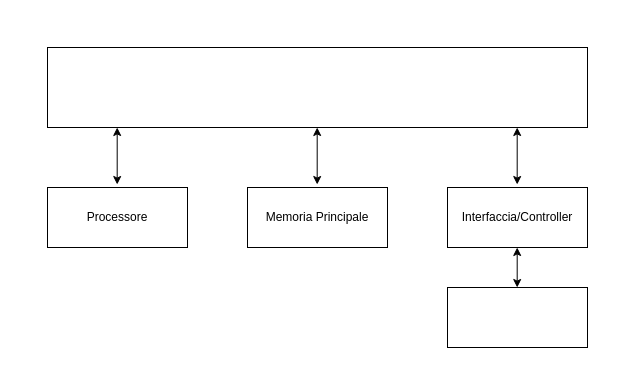
Image size: 634x384. Some labels were removed from this diagram. The shapes that lost their labels are listed below. From the top down, each one's centre as x and y in pixels, then its label:
At [317,87]: "Rete di Interconnessione".
At [517,317]: "Trasduttore interno".
